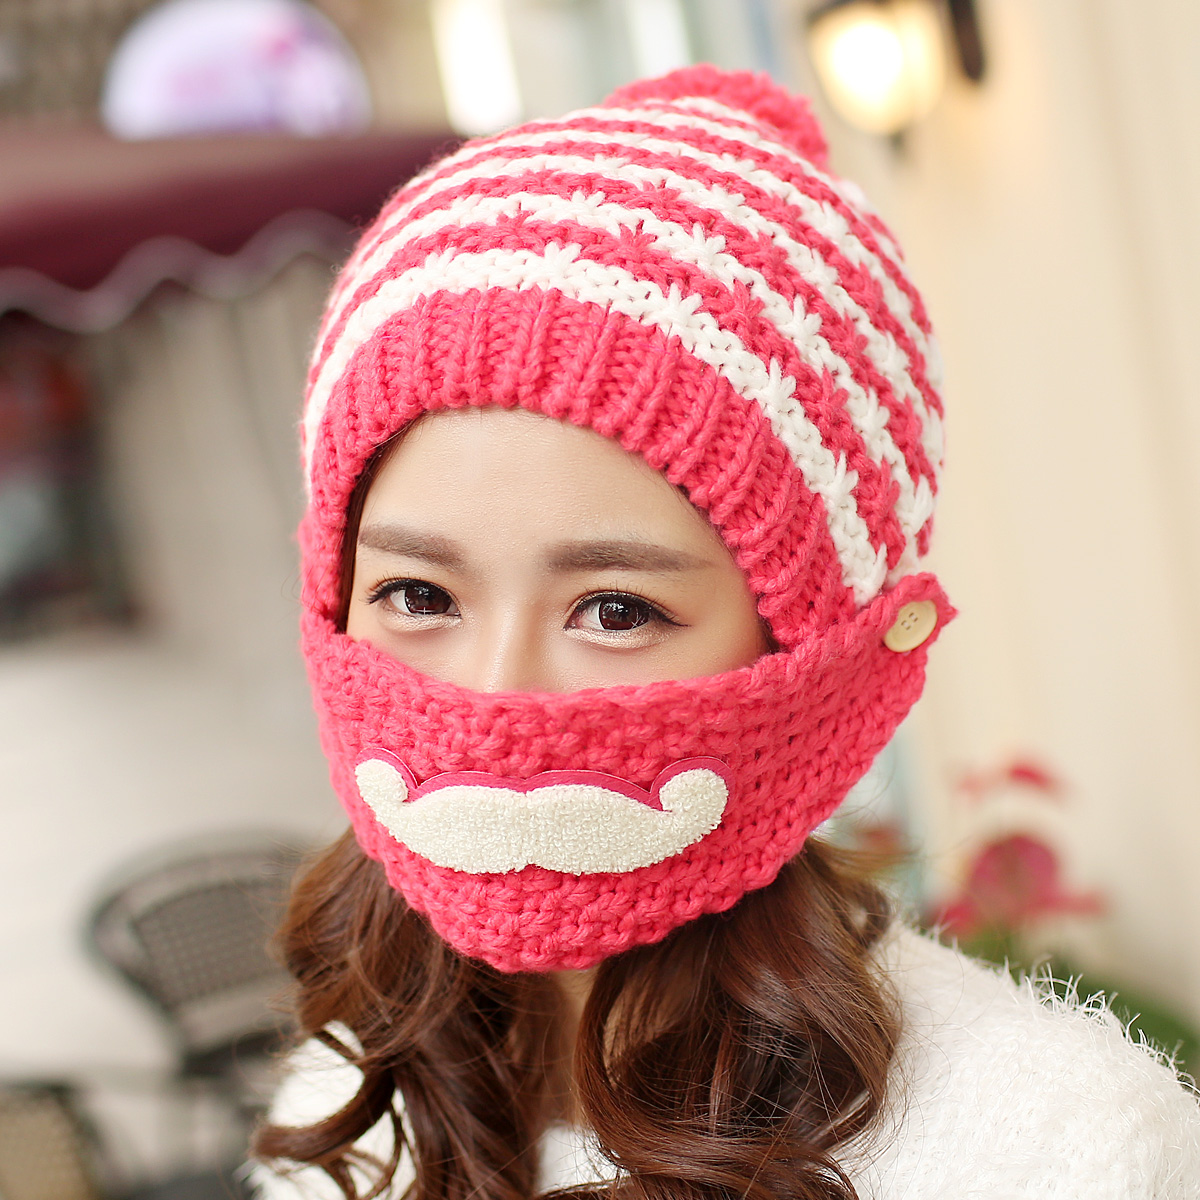face_mask: (325, 387, 771, 930)
